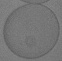small: (26, 35, 36, 46)
